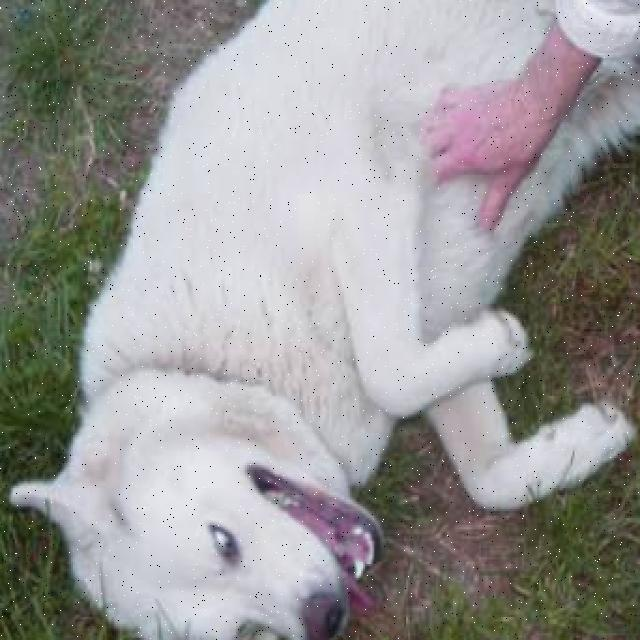Dog: (0, 403, 395, 640)
